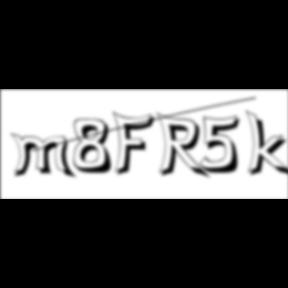5: (200, 114, 246, 176)
8: (74, 117, 118, 176)
F: (112, 110, 160, 178)
R: (156, 112, 214, 182)
m: (10, 132, 78, 181)
